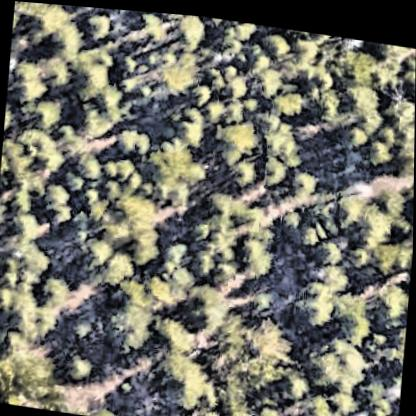tree-top: (141, 130, 204, 200), (157, 346, 220, 414), (3, 346, 67, 410), (100, 288, 159, 354), (307, 332, 369, 392), (213, 110, 263, 162), (348, 196, 398, 247), (150, 306, 196, 357), (232, 227, 278, 277), (68, 54, 116, 101), (230, 322, 275, 370), (337, 76, 385, 120), (155, 54, 200, 100), (369, 273, 411, 321), (10, 57, 51, 106), (125, 217, 166, 265), (333, 41, 376, 83), (0, 288, 40, 333), (34, 270, 75, 312), (72, 100, 110, 142), (315, 253, 355, 292), (187, 286, 224, 328), (251, 59, 288, 99), (38, 178, 73, 220), (112, 121, 152, 157), (174, 11, 209, 52), (102, 247, 138, 285), (271, 81, 307, 118), (31, 94, 66, 132), (309, 80, 342, 120), (5, 210, 40, 247), (21, 1, 58, 35), (79, 8, 114, 43), (367, 230, 402, 265), (281, 362, 313, 400), (83, 233, 115, 269), (141, 266, 173, 300), (225, 150, 257, 184), (62, 350, 94, 383), (261, 24, 292, 58), (135, 9, 167, 41), (287, 164, 318, 196), (303, 386, 336, 416), (342, 238, 373, 269), (75, 151, 104, 183), (340, 113, 369, 145), (207, 190, 235, 222), (294, 28, 322, 60), (295, 214, 322, 245), (0, 253, 22, 291), (263, 129, 295, 155), (258, 151, 286, 180), (31, 145, 62, 171), (6, 166, 34, 194), (225, 69, 251, 99), (365, 133, 395, 159), (209, 253, 236, 281), (47, 28, 74, 56), (86, 191, 112, 220), (189, 78, 215, 106), (189, 243, 212, 274), (304, 291, 330, 318), (189, 212, 214, 239), (244, 201, 269, 226), (163, 235, 185, 263), (233, 16, 258, 40), (319, 235, 342, 258), (3, 105, 17, 140), (312, 64, 335, 85), (78, 183, 101, 203), (103, 173, 123, 196), (176, 116, 197, 137), (65, 169, 85, 191), (125, 169, 143, 193), (379, 116, 400, 136), (202, 95, 222, 116), (257, 399, 281, 416), (120, 53, 140, 73), (73, 317, 92, 338), (102, 155, 121, 175), (114, 154, 131, 176), (225, 98, 244, 117), (401, 63, 416, 87), (221, 55, 240, 73), (207, 66, 225, 84), (116, 75, 134, 92), (364, 408, 400, 416), (182, 106, 203, 119), (327, 410, 355, 416), (240, 416, 289, 416)
